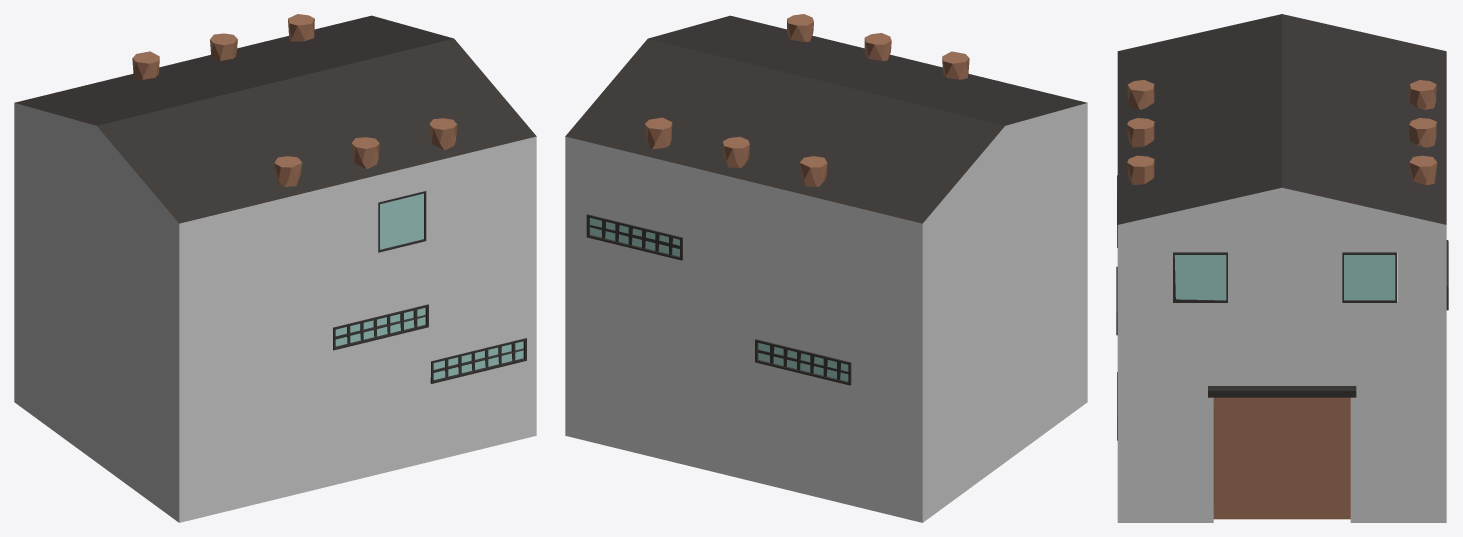
File: SM_Factory_Warehouse_01.glb
3 renders of one model, left to right at view 1: azimuth 30°, elevation 25°; view 2: azimuth 150°, elevation 25°; view 3: azimuth 270°, elevation 25°, orthographic.
Visible parts, largest first — view 1: SM_Factory_Warehouse_01; view 2: SM_Factory_Warehouse_01; view 3: SM_Factory_Warehouse_01.
Part boxes in pixels (x1,y1,x2,y2): SM_Factory_Warehouse_01: (14,14,536,522); SM_Factory_Warehouse_01: (565,14,1087,522); SM_Factory_Warehouse_01: (1116,14,1448,522).
Bounding box in the file's own units: 15.44 × 13.5 × 12.12.
Materials: 1 (1 with a texture image).
